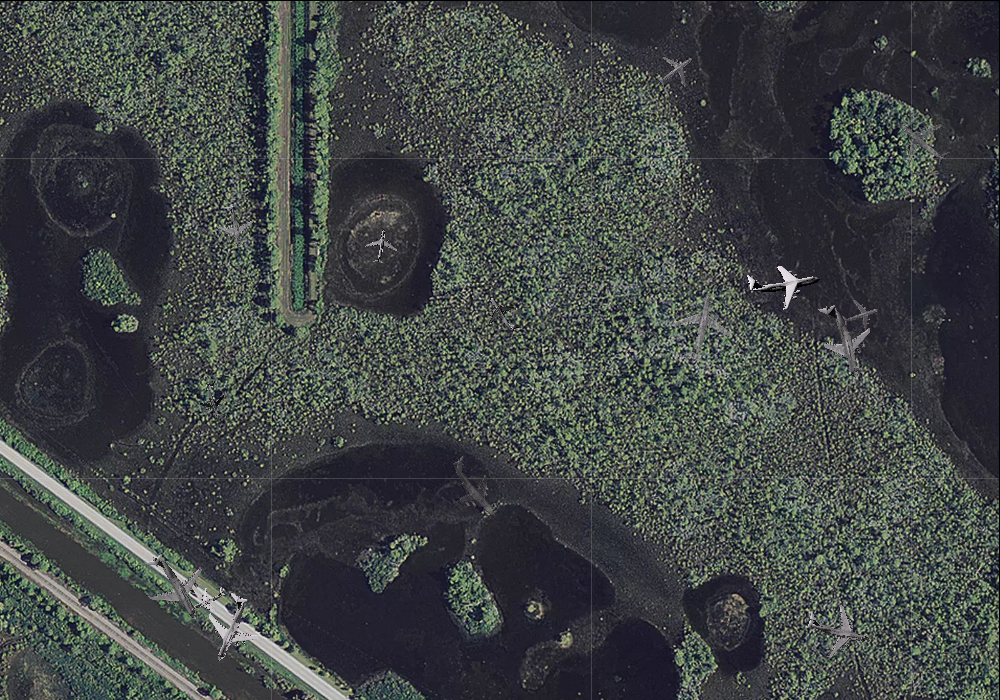plane: (125, 537, 223, 637), (431, 443, 519, 532), (186, 583, 273, 673), (800, 294, 884, 387), (661, 285, 740, 367), (883, 102, 962, 181), (742, 245, 825, 318), (799, 592, 878, 668), (648, 42, 703, 97), (476, 285, 529, 341), (210, 201, 257, 250), (837, 292, 884, 338), (192, 377, 235, 424), (186, 578, 230, 621), (362, 226, 399, 265)
